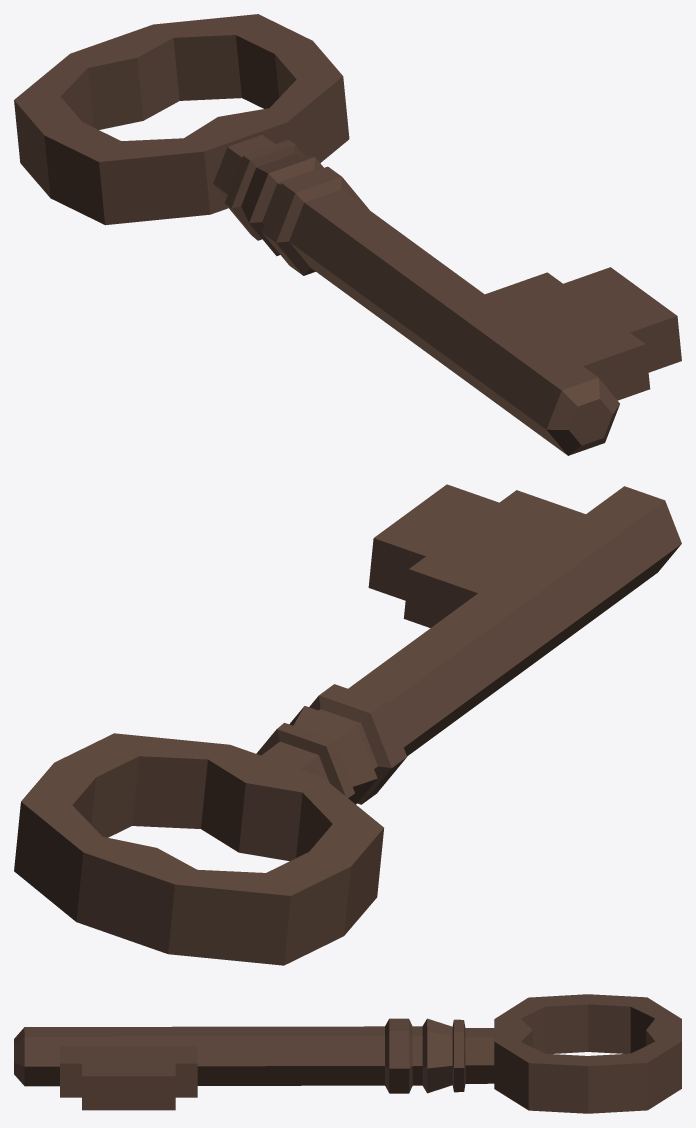
Rendered from quaternius-rpg-items-key-1.glb.
3 renders of one model, top to bottom at view 1: azimuth 30°, elevation 25°; view 2: azimuth 150°, elevation 25°; view 3: azimuth 270°, elevation 25°, orthographic. The views are drawn at different scales.
Parts seen in each view (by area): view 1: Key1; view 2: Key1; view 3: Key1.
Boxes of the visible parts, x1=… form: Key1: x1=14, y1=14, x2=681, y2=455; Key1: x1=14, y1=484, x2=681, y2=965; Key1: x1=14, y1=994, x2=681, y2=1113.
Bounding box in the file's own units: 0.2921 × 0.0953 × 0.8666.
